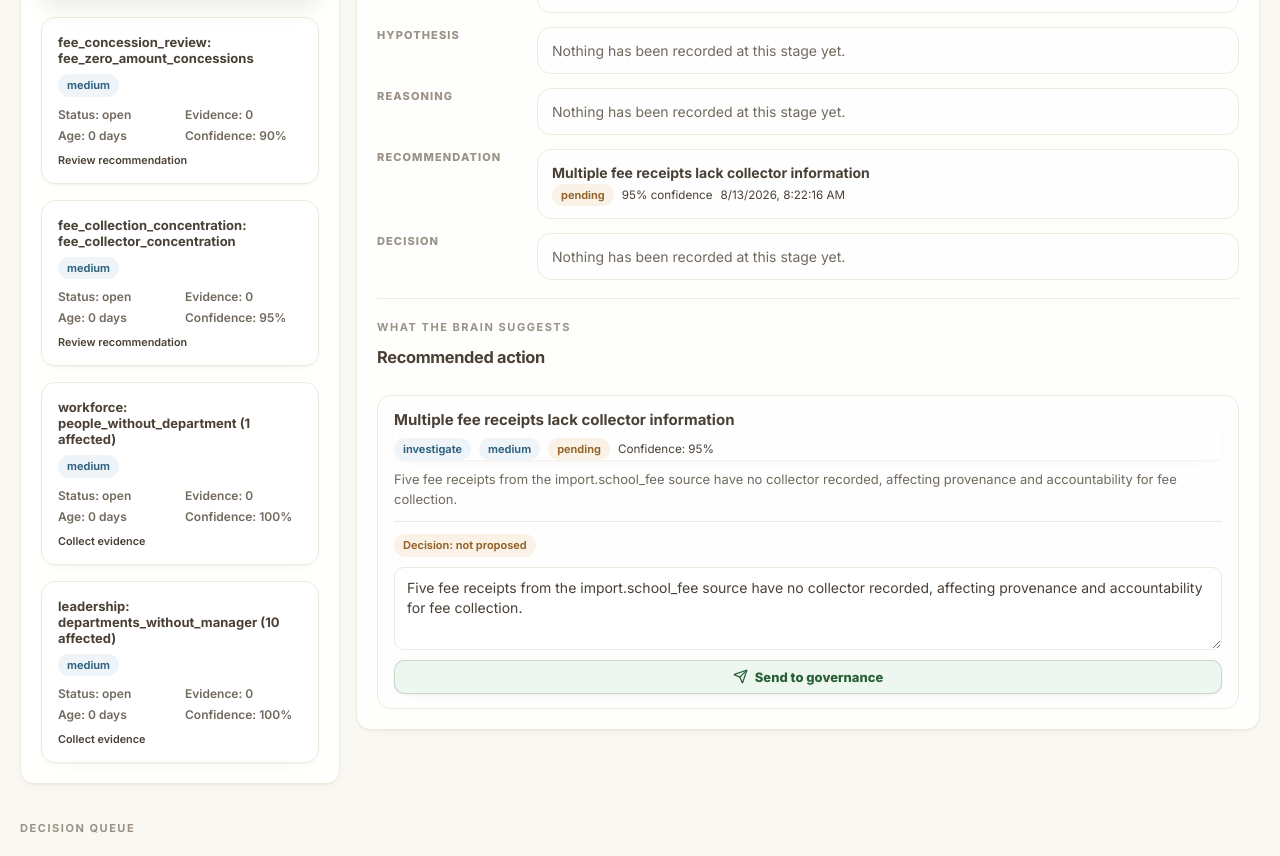
Test: Deliberation workspace — Fee Intelligence card › reports a citation that could not be loaded instead of rendering an empty card
This screenshot has width=1280, height=856.
(page scrolled)
Check: the heading "Recommended action" is shown, box [377,345,571,371]
Check: the element with class "intel-reco-block" is shown, box [377,298,1239,709]
Click the text "Multiple fee receipts lack collector information" below "Recommended action". click: coordinates (564, 419)
box: [394,410,734,429]
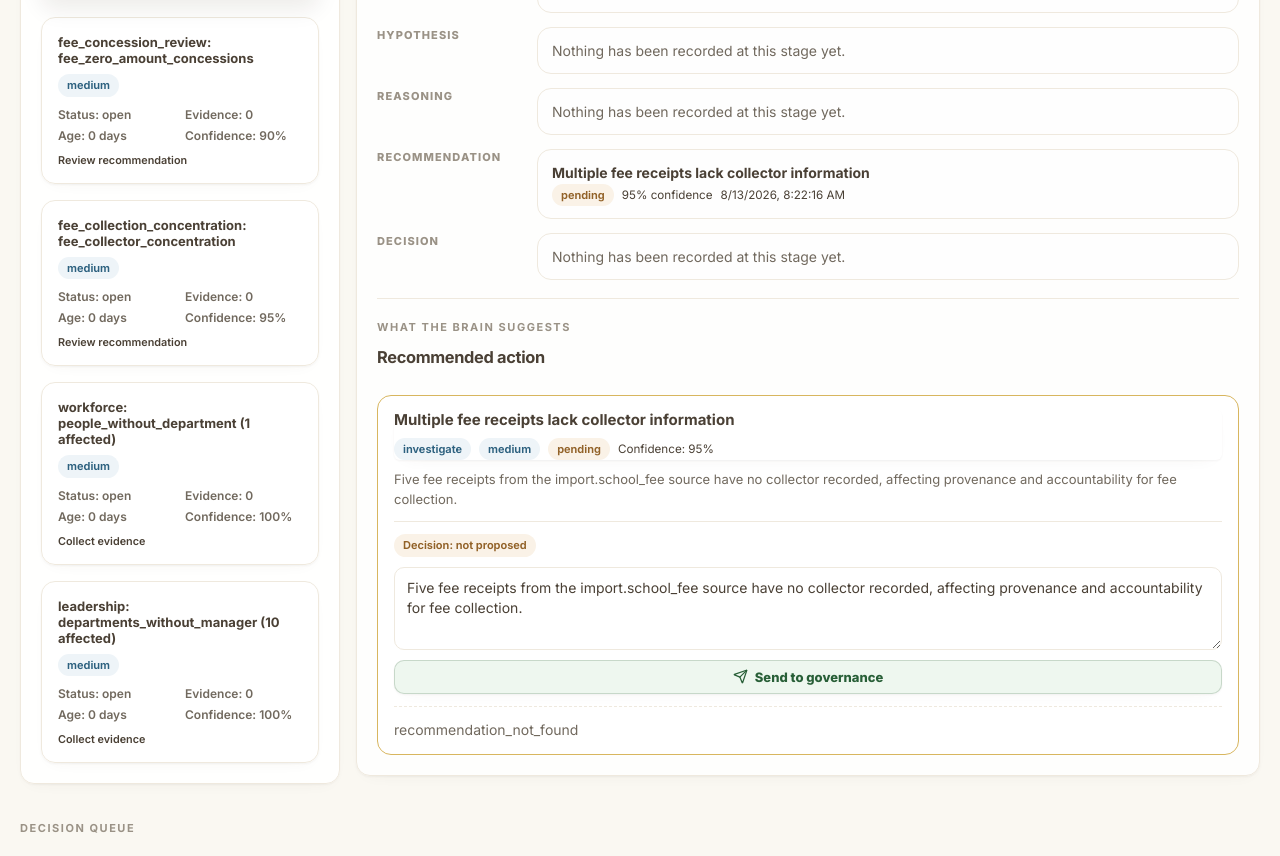
Check: the text "recommendation_not_found" is shown, box [394,721,578,738]
